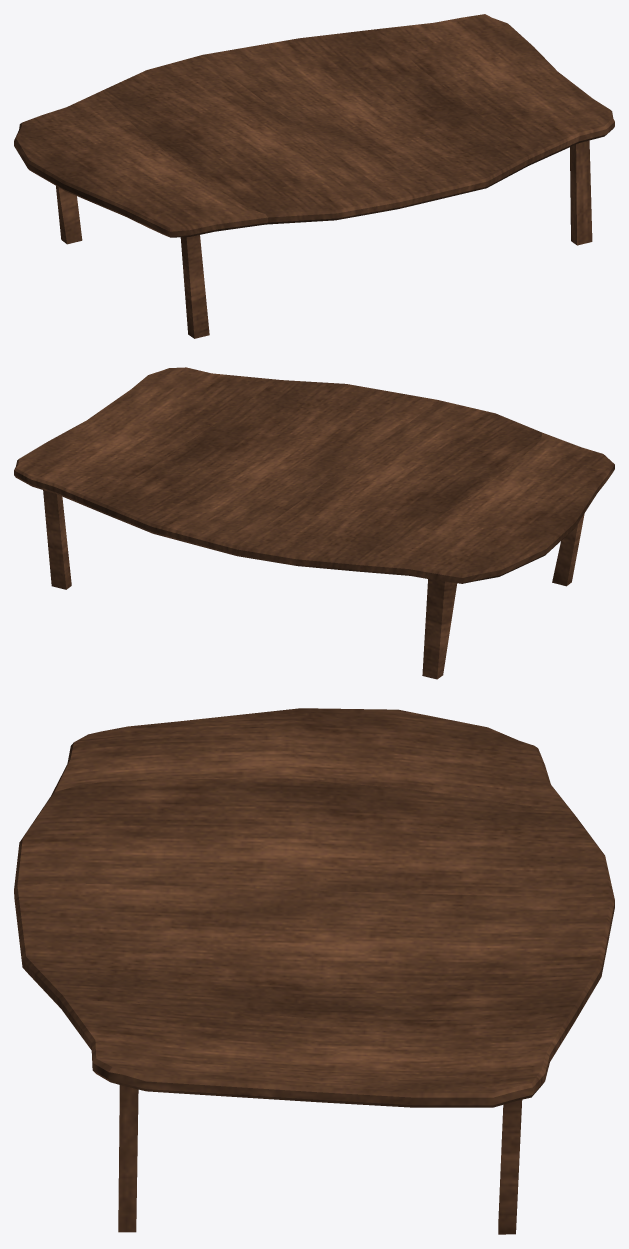
The model's file is aTable.fbx.
3 views of the same model, one above another, from view 1: azimuth 30°, elevation 25°; view 2: azimuth 150°, elevation 25°; view 3: azimuth 270°, elevation 25° (orthographic). The views are drawn at different scales.
Visible parts, largest first — view 1: Table; view 2: Table; view 3: Table.
Part boxes in pixels (box(x1,y1,x2,y2)): Table: box(14, 14, 614, 338); Table: box(14, 367, 614, 679); Table: box(14, 708, 614, 1234).
Bounding box in the file's own units: 378 × 92.89 × 260.
1 material, 1 textured.
